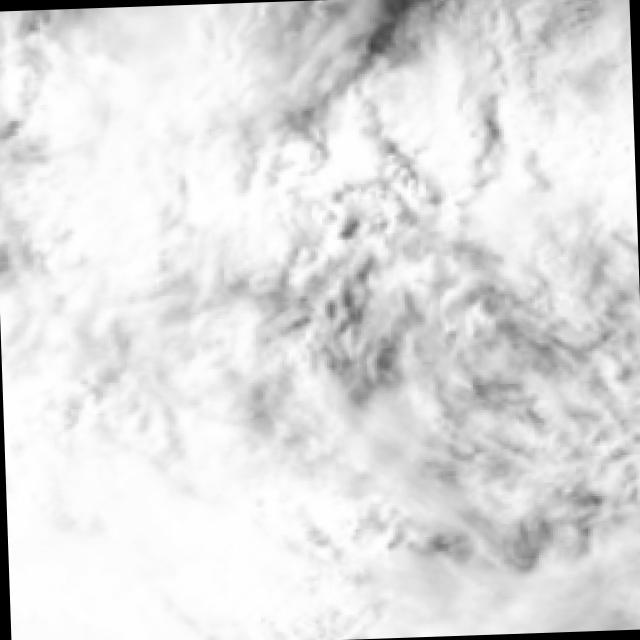CB: (6, 489, 219, 640), (42, 70, 208, 247)
